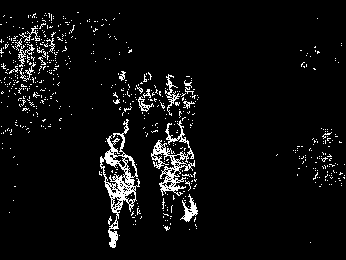person: (153, 123, 201, 230), (99, 130, 142, 248), (136, 67, 162, 131), (112, 68, 135, 131), (181, 75, 199, 131), (163, 71, 179, 131)
